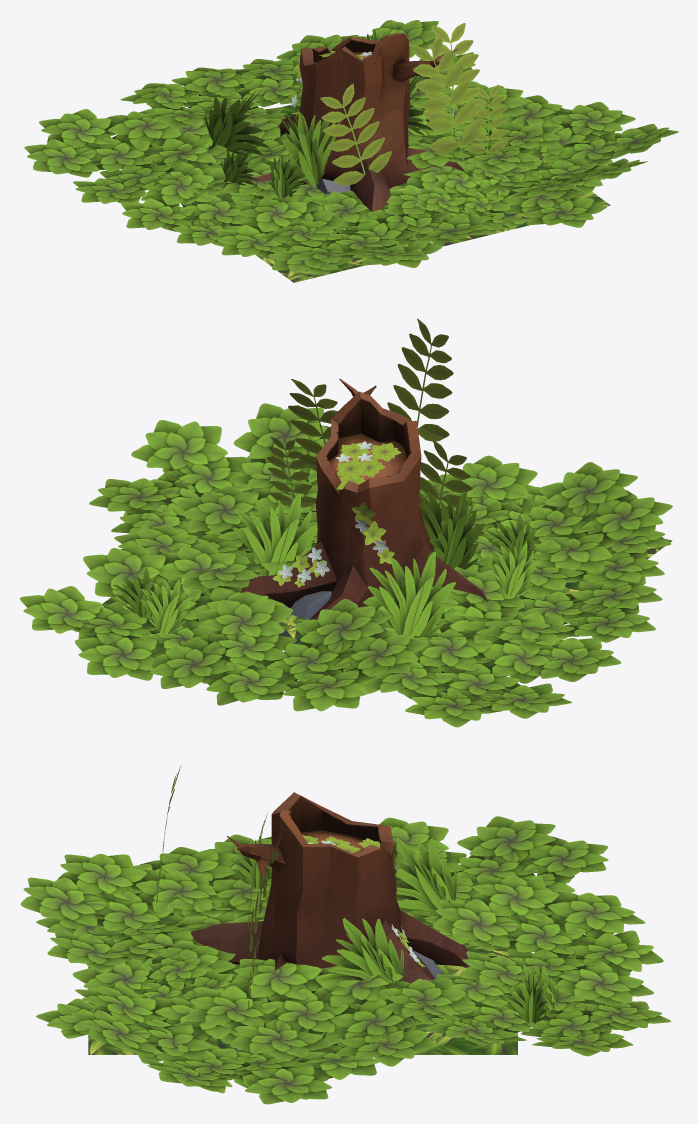
The model's file is stylized_tree_stump.glb.
3 renders of one model, top to bottom at view 1: azimuth 30°, elevation 25°; view 2: azimuth 150°, elevation 25°; view 3: azimuth 270°, elevation 25°, orthographic. The views are drawn at different scales.
Visible parts, largest first — view 1: Plane.025, Cylinder, Plane; view 2: Plane.025, Cylinder, Plane; view 3: Plane.025, Cylinder, Plane.
Boxes of the visible parts, left/top/right/bottom form: Plane.025: left=24, top=20, right=678, bottom=274; Cylinder: left=248, top=33, right=464, bottom=211; Plane: left=150, top=87, right=610, bottom=282; Plane.025: left=19, top=318, right=672, bottom=727; Cylinder: left=241, top=378, right=487, bottom=619; Plane: left=101, top=539, right=672, bottom=672; Plane.025: left=20, top=765, right=671, bottom=1104; Cylinder: left=190, top=792, right=468, bottom=983; Plane: left=88, top=899, right=517, bottom=1054.
Bounding box in the file's own units: 1044 × 393 × 996.
Materials: 3 (3 with a texture image).
